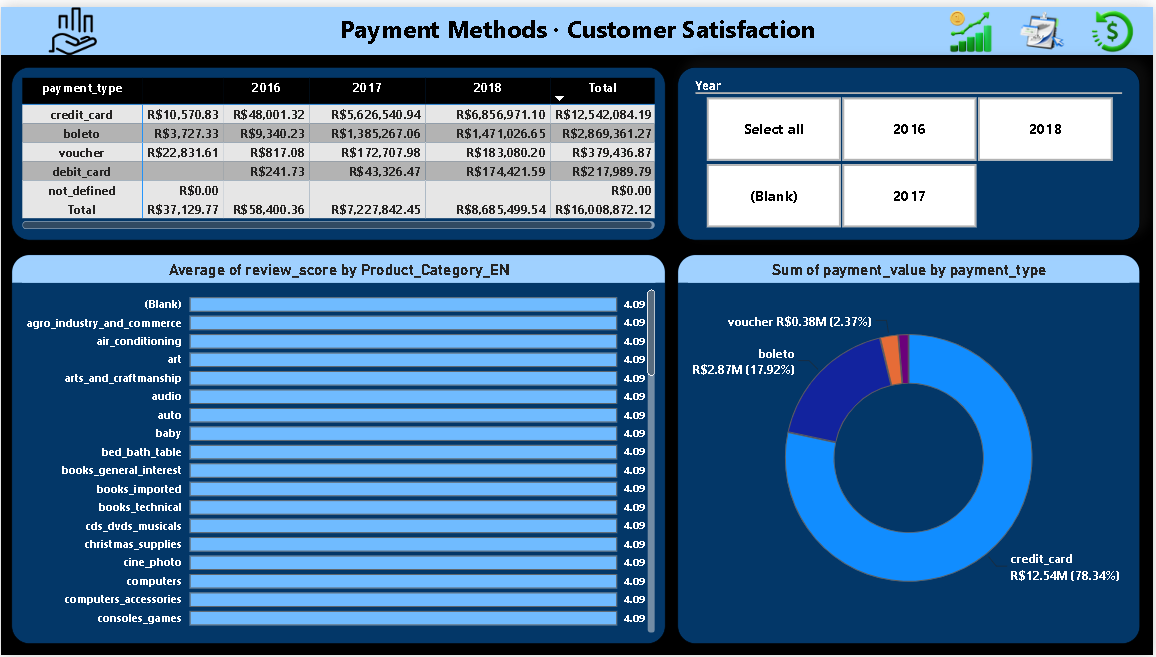

What the dashboard file says about the page in this screenshot:
{"tool":"powerbi","page":{"name":"Payments & Reviews","canvas":[1280,720],"ordinal":2},"visuals":[{"type":"textbox","box":[0,0,1280,53.3],"z":0},{"type":"pivotTable","fields":{"Rows":["FactPayments.payment_type"],"Columns":["DimOrders.order_approved_at.Variation.Date Hierarchy.Year"],"Values":["Sum(FactPayments.payment_value)"]},"box":[11.1,66.8,726.9,192.5],"z":1000},{"type":"donutChart","fields":{"Category":["FactPayments.payment_type"],"Y":["Sum(FactPayments.payment_value)"]},"box":[752.4,275.2,513.8,432.6],"z":2000},{"type":"barChart","fields":{"Category":["DimProducts.Product_Category_EN"],"Y":["Avg(FactReviews.review_score)"]},"box":[11.1,275.2,726.9,432.6],"z":3000},{"type":"slicer","fields":{"Values":["DimOrders.order_approved_at.Variation.Date Hierarchy.Year"]},"box":[752.4,66.8,513.8,192.5],"z":4000},{"type":"image","box":[1046.6,0,62,54.1],"z":5000},{"type":"image","box":[1121.4,0,70,54.1],"z":6000},{"type":"image","box":[1202.5,0,63.6,54.1],"z":7000},{"type":"image","box":[0,0,159.1,54.1],"z":8000}]}

Visuals, with their boxes in screenshot pixels (x1, y1, x2, y2), scaled from the page's 1280x720 canvas onto the 1156x657 screenshot:
textbox: region(0, 0, 1155, 49)
pivotTable - FactPayments.payment_type x DimOrders.order_approved_at.Variation.Date Hierarchy.Year: region(10, 61, 667, 237)
donutChart - FactPayments.payment_type x Sum(FactPayments.payment_value): region(680, 251, 1144, 646)
barChart - DimProducts.Product_Category_EN x Avg(FactReviews.review_score): region(10, 251, 667, 646)
slicer - DimOrders.order_approved_at.Variation.Date Hierarchy.Year: region(680, 61, 1144, 237)
image: region(945, 0, 1001, 49)
image: region(1013, 0, 1076, 49)
image: region(1086, 0, 1143, 49)
image: region(0, 0, 144, 49)
